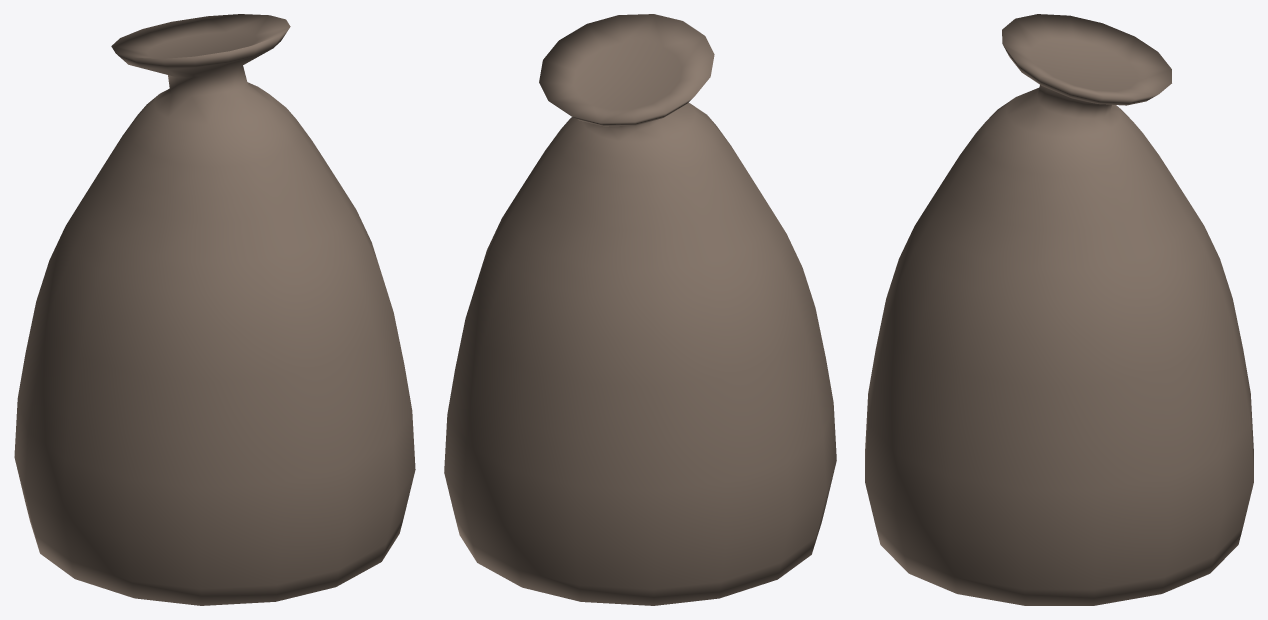
Rendered from model_sacofechado_01.fbx.
The picture shows the model from 3 angles, left to right: view 1: azimuth 30°, elevation 25°; view 2: azimuth 150°, elevation 25°; view 3: azimuth 270°, elevation 25°; orthographic projection. The views are drawn at different scales.
Parts seen in each view (by area): view 1: Circle.001; view 2: Circle.001; view 3: Circle.001.
Part boxes in pixels (x1,y1,x2,y2): Circle.001: [14, 14, 415, 605]; Circle.001: [444, 14, 836, 605]; Circle.001: [865, 14, 1253, 605].
Bounding box in the file's own units: 214 × 299 × 214.
